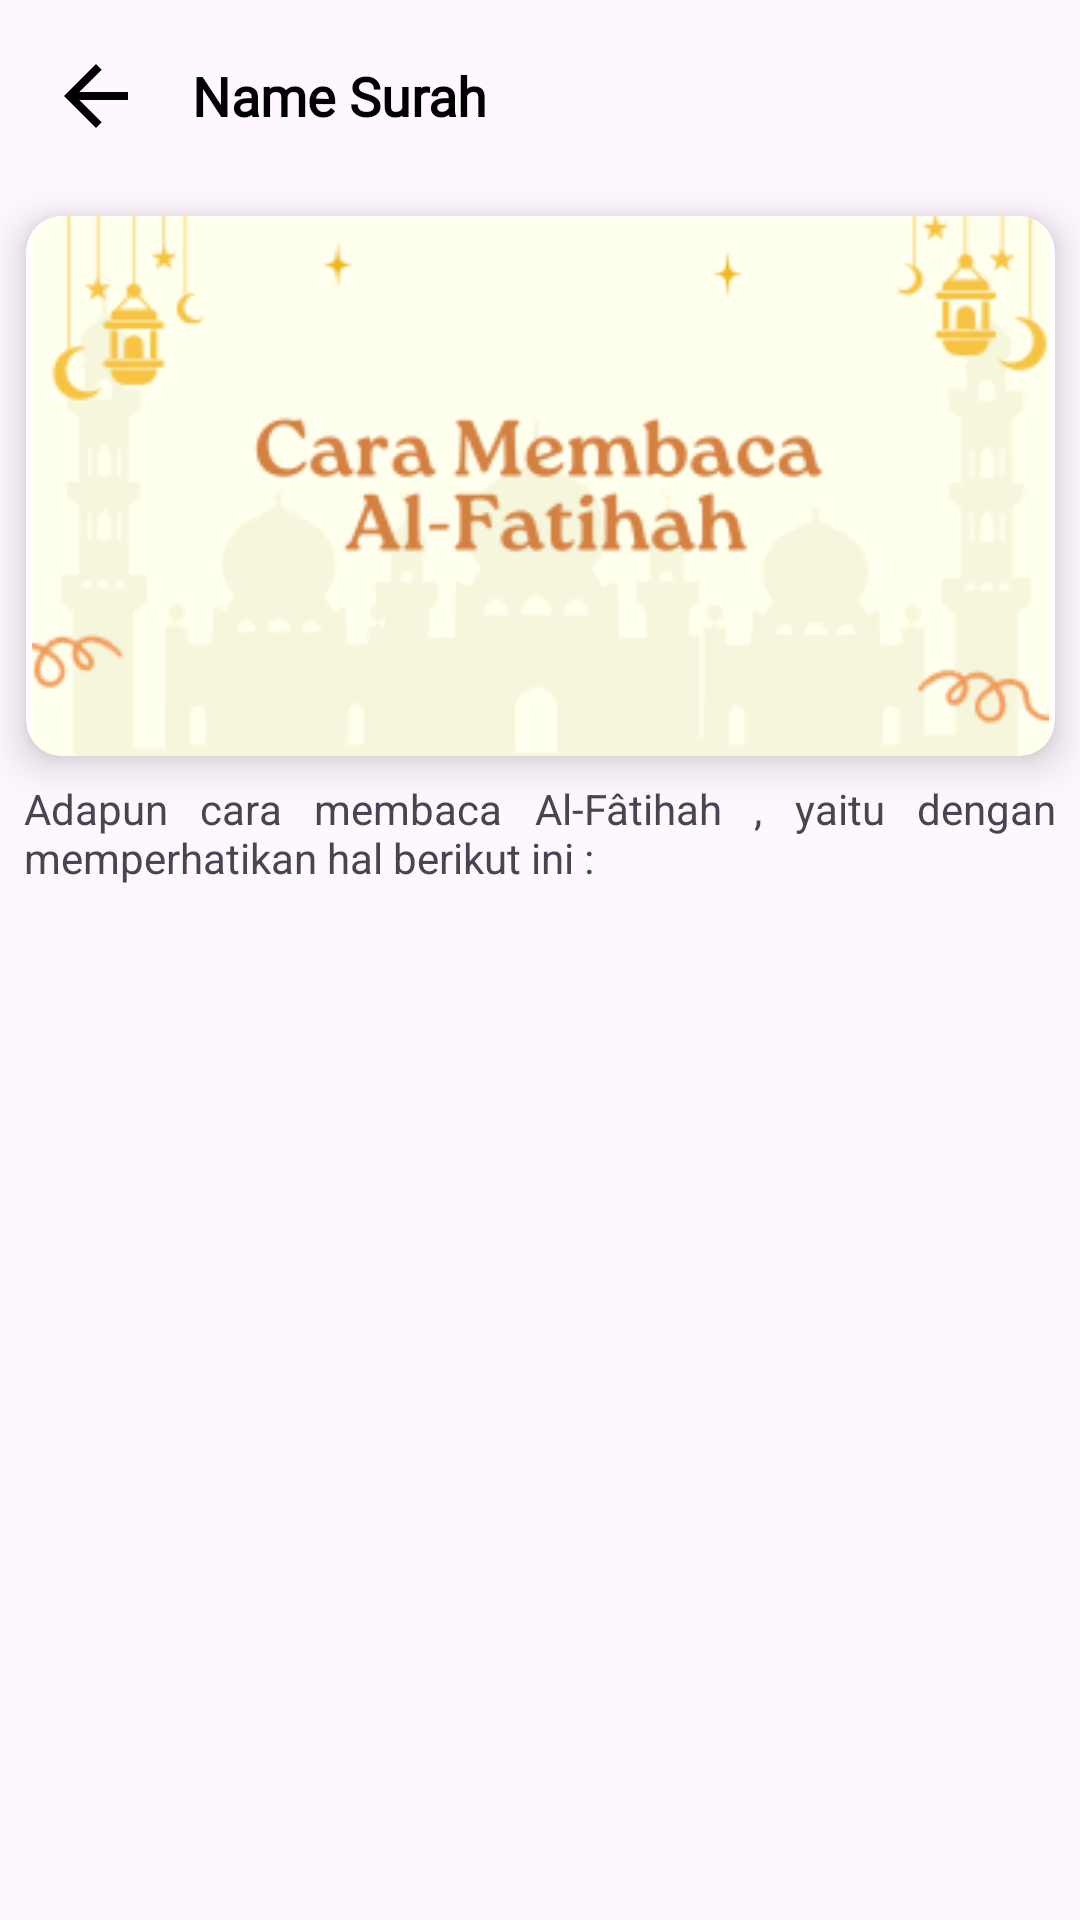

Screen size 1080 x 1920. Icon name, then its center in pixels as point (x, y):
Tombol Kembali: point (96, 96)
